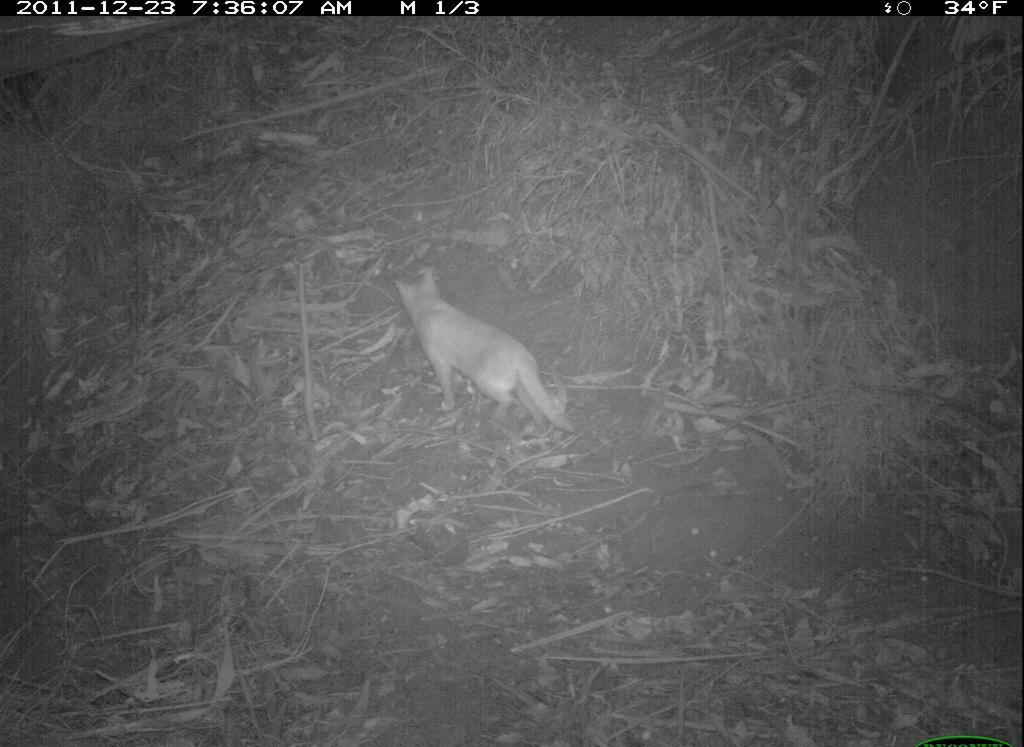cat: (376, 269, 585, 461)
